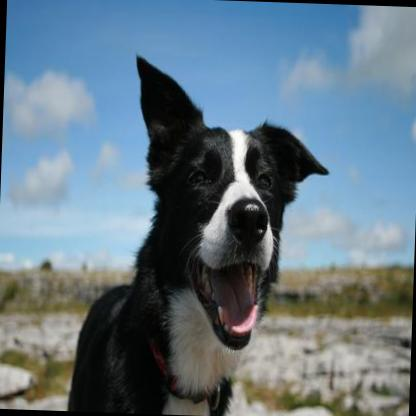Border_collie: (67, 49, 335, 416)
